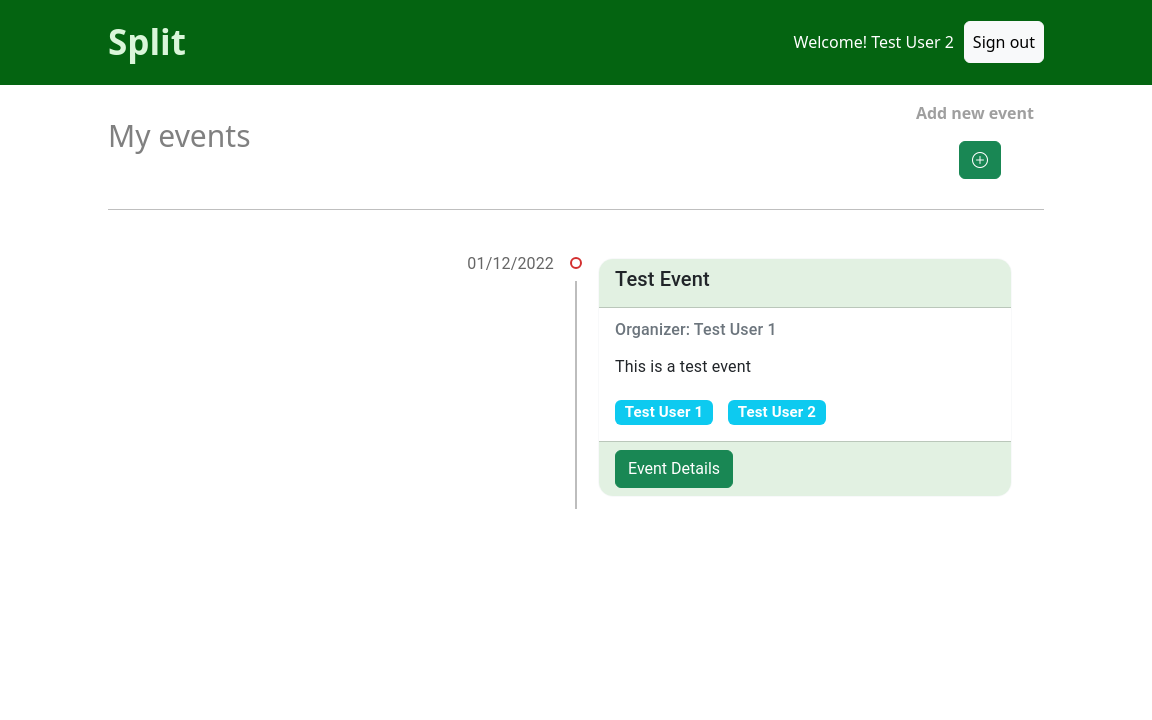
Scenario: Given a homepage with an event › When clicking "event details", if the user is an attendee, there is ONLY a close button
# click on event detail
Step 1. Click the button "Event Details" → (674, 469), box x1=615 y1=450 x2=733 y2=488
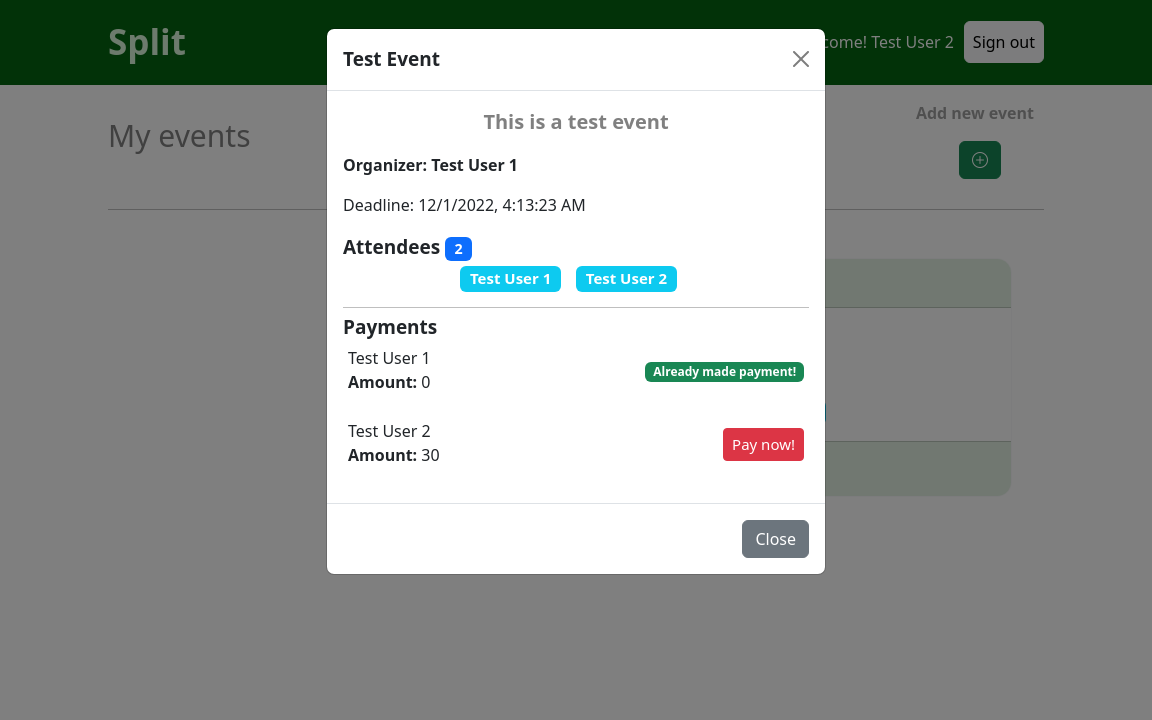
Check: the button "Close" is shown, box x1=742 y1=520 x2=809 y2=558
